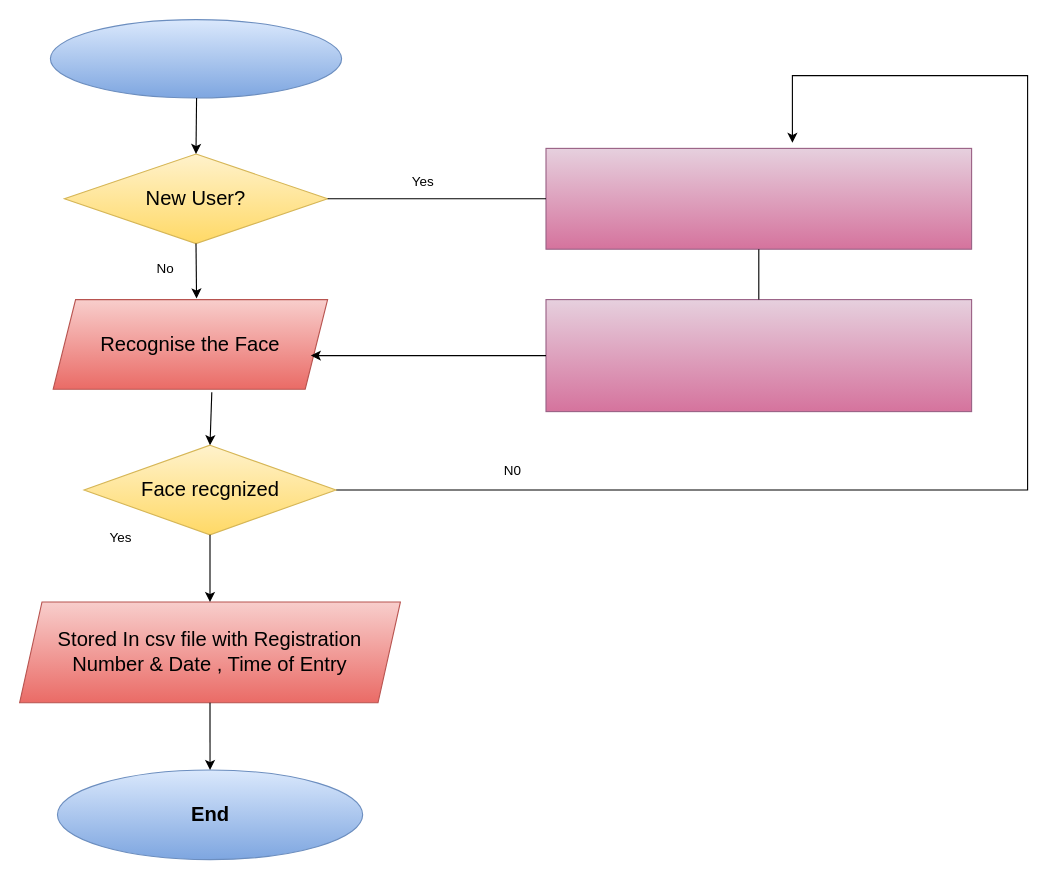
Image size: 1056x879. Some labels were removed from this diagram. Here are the shapes that lost their labels. From the top down, the centre of each, then its label:
At [195,58]: "Start".
At [758,198]: "Give Your Photogragh".
At [758,355]: "Store the Face data in folder on your name".
